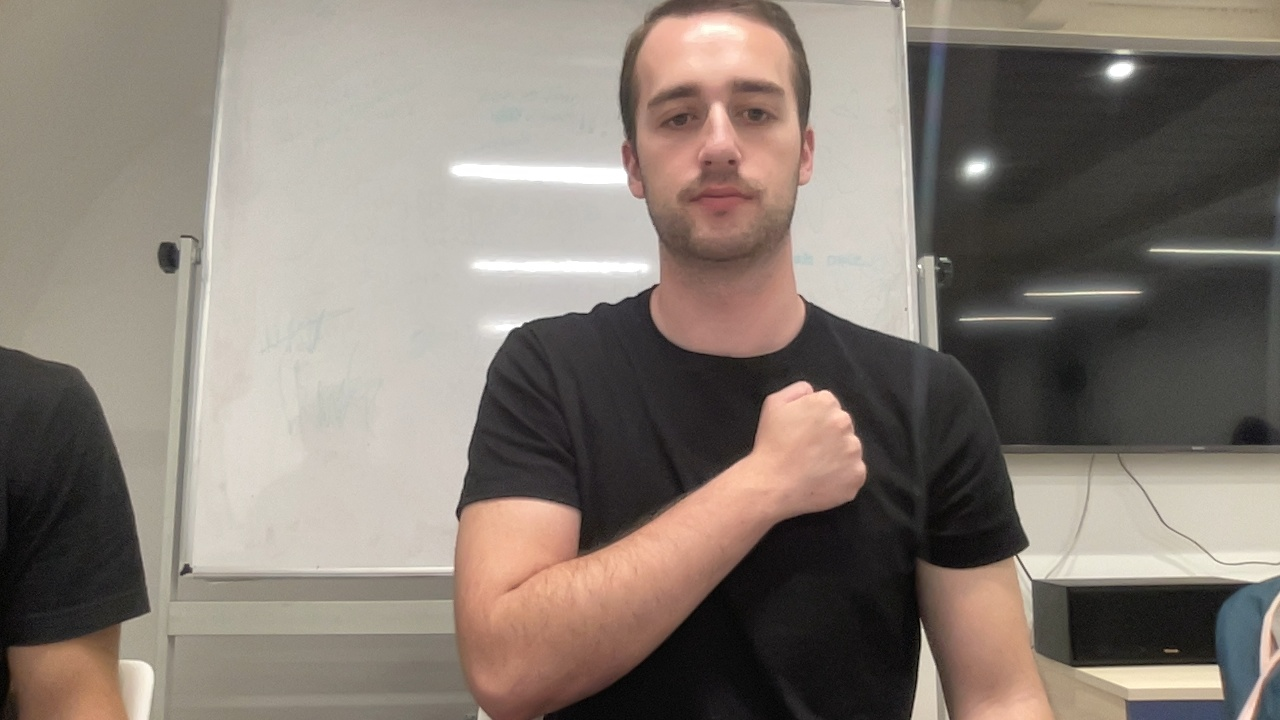Sorry: (450, 374, 869, 720)
